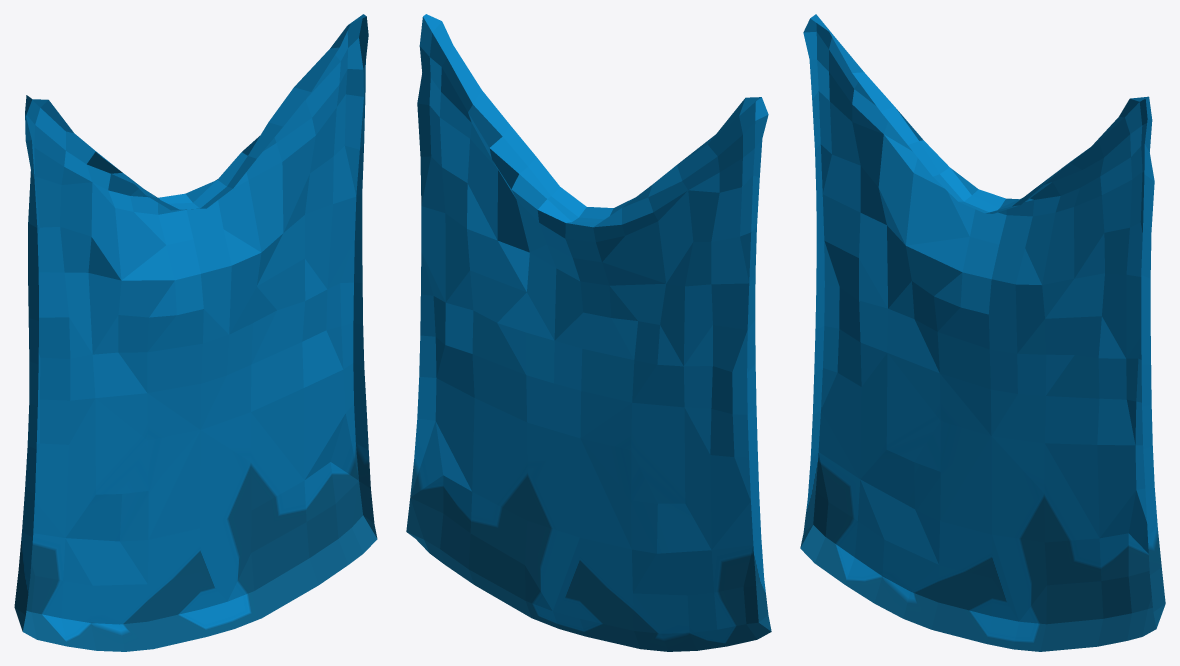
File: model_cloth_drap_blue.fbx
3 views of the same model, side by side, from view 1: azimuth 30°, elevation 25°; view 2: azimuth 150°, elevation 25°; view 3: azimuth 330°, elevation 25° (orthographic).
Visible parts, largest first — view 1: model_cloth_drap_blue; view 2: model_cloth_drap_blue; view 3: model_cloth_drap_blue.
Part boxes in pixels (left/top/right/bottom): model_cloth_drap_blue: left=14, top=14, right=377, bottom=651; model_cloth_drap_blue: left=406, top=14, right=771, bottom=651; model_cloth_drap_blue: left=800, top=14, right=1165, bottom=651.
Size of the model in its own units: 253 by 397 by 26.3.
1 material, 1 textured.
